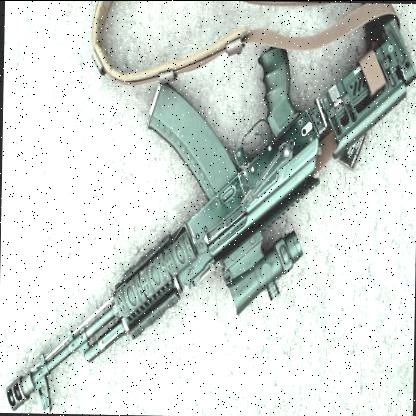rifle: (29, 0, 416, 411)
